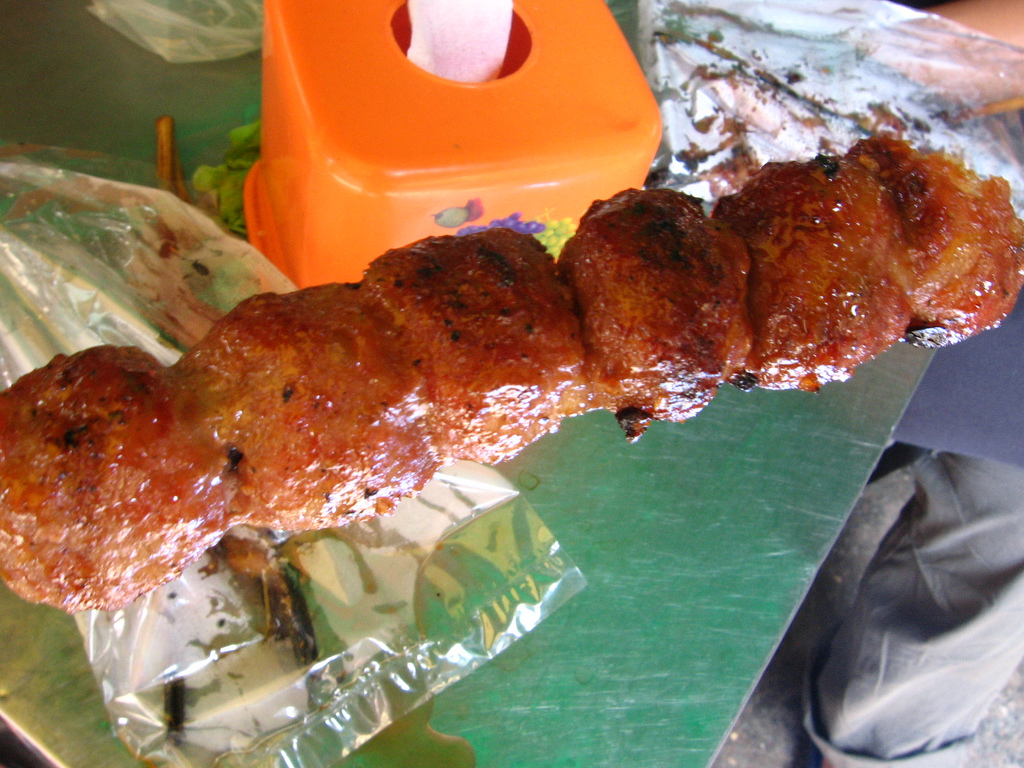meatballs: (219, 345, 473, 525), (588, 207, 750, 420), (755, 184, 975, 325)
